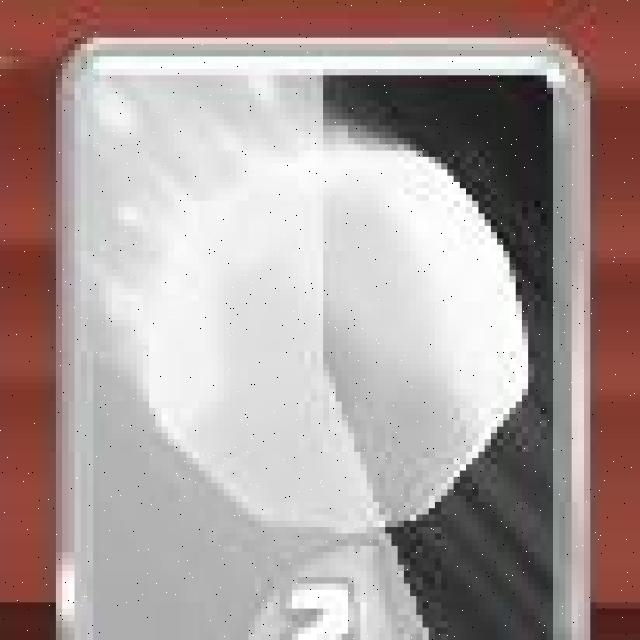Snowball: (54, 42, 593, 640)
